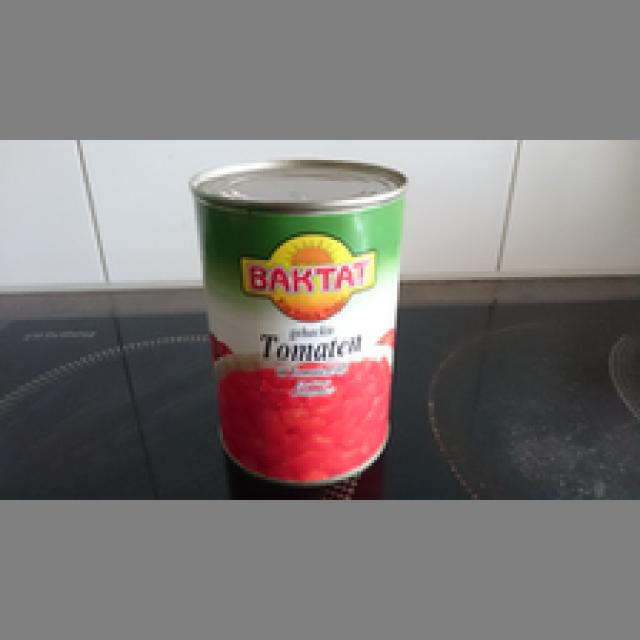groceries: (191, 154, 406, 483)
